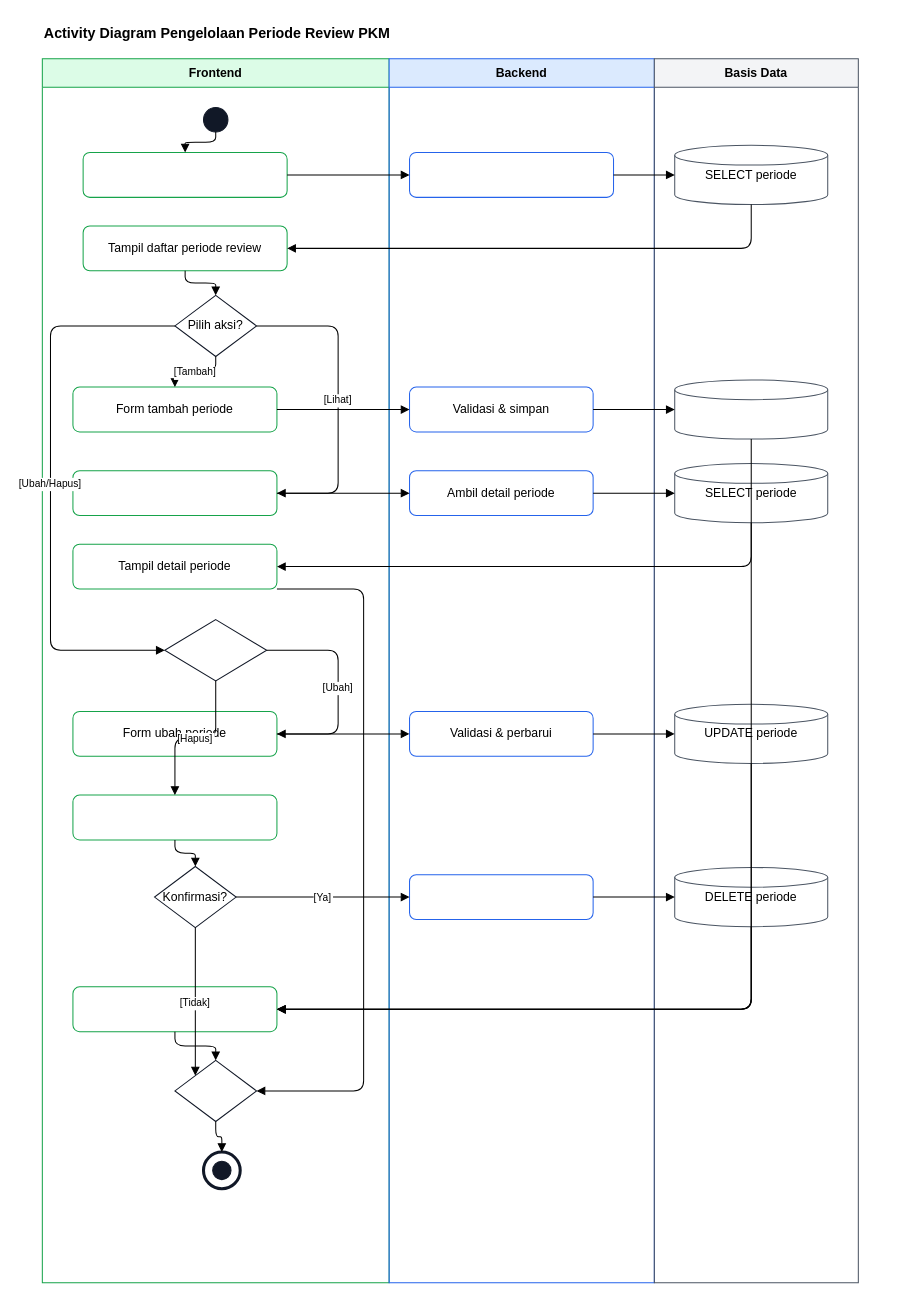
This 916x1301 diagram has some shape labels left out. The shapes that lost their labels are listed below. From the top down, each one's centre as x and y in pixels, then its label:
At [184,174]: "Buka halaman periode review".
At [511,174]: "Ambil data periode review".
At [751,409]: "INSERT periode".
At [174,493]: "Lihat detail periode".
At [215,650]: "Ubah atau Hapus?".
At [174,817]: "Konfirmasi hapus periode".
At [501,897]: "Proses hapus".
At [174,1009]: "Perbarui tampilan & notifikasi".
